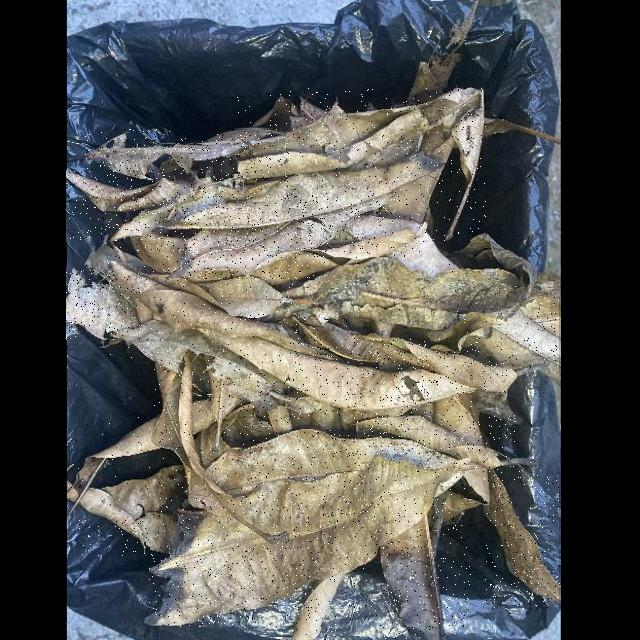biowaste: (150, 456, 471, 627), (234, 89, 486, 241), (107, 225, 429, 320), (151, 351, 290, 545), (198, 323, 475, 419), (110, 262, 333, 361), (165, 153, 444, 229), (166, 191, 396, 280), (292, 318, 518, 396), (315, 258, 523, 338), (205, 430, 457, 495), (79, 466, 205, 558), (484, 469, 560, 609), (67, 171, 215, 242), (85, 129, 286, 181), (432, 297, 560, 373), (67, 417, 160, 519), (354, 416, 515, 469), (381, 516, 445, 639), (67, 268, 142, 340), (290, 575, 346, 640), (131, 233, 189, 275)
